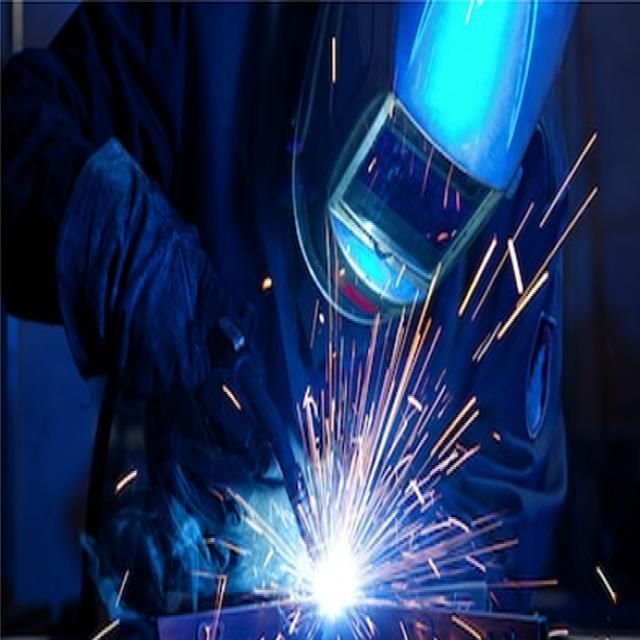with_helmet: (294, 0, 576, 331)
